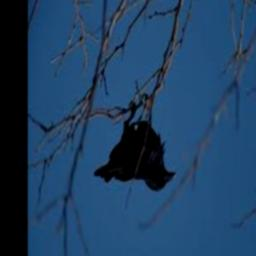Crow: (95, 102, 177, 193)
